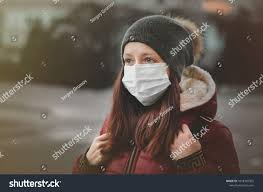with-mask: (113, 12, 199, 112)
